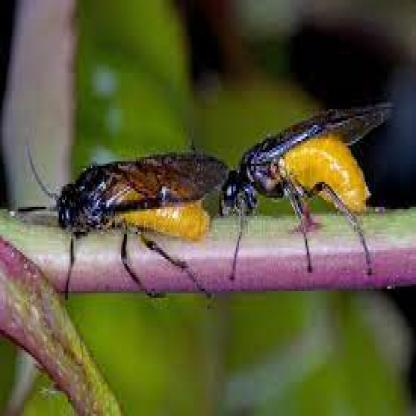sawfly: (11, 150, 229, 306), (215, 99, 395, 284)
